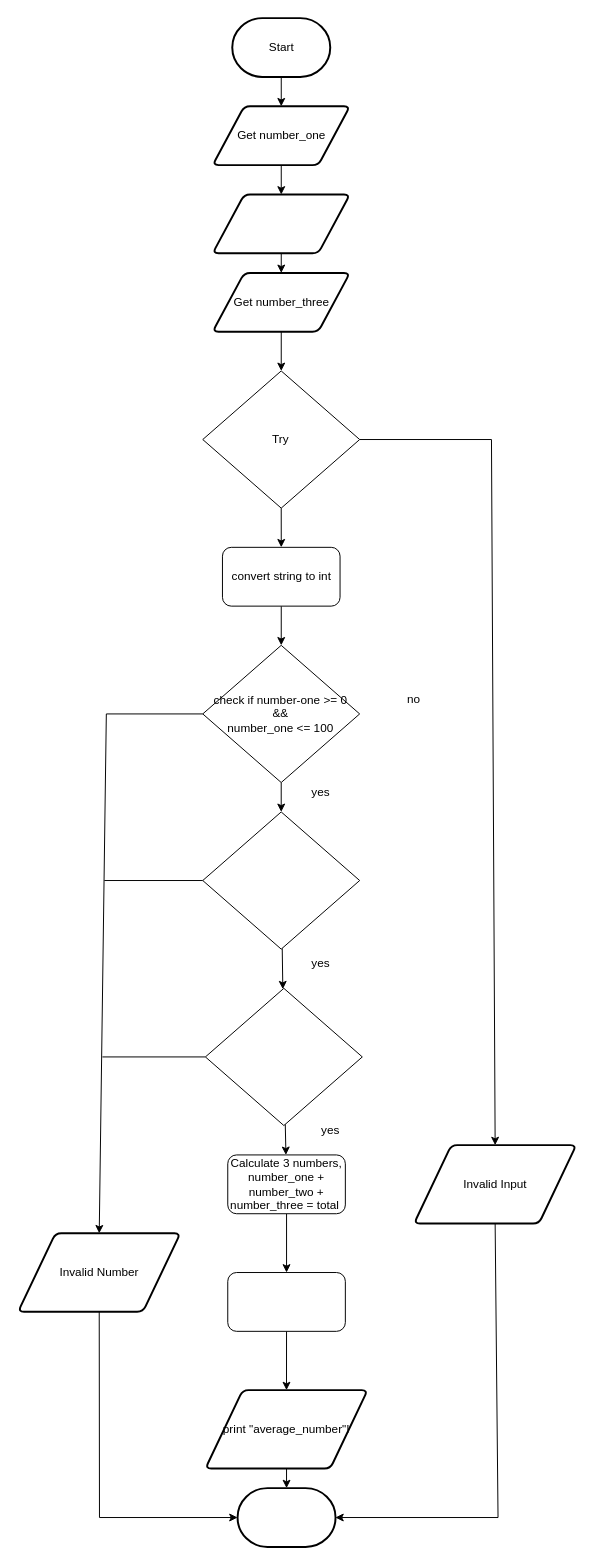
Image size: 594x1564. Some labels were removed from this diagram. Here are the shapes that lost their labels. From the top down, the box of each, then its label:
(211, 193, 350, 254): Get number_two
(202, 811, 360, 949): check if number-two>= 0 && number_two <= 100
(204, 987, 362, 1126): check if number-three>= 0 && number_three <= 100
(227, 1272, 345, 1331): average = total/3
(236, 1487, 336, 1547): stop
